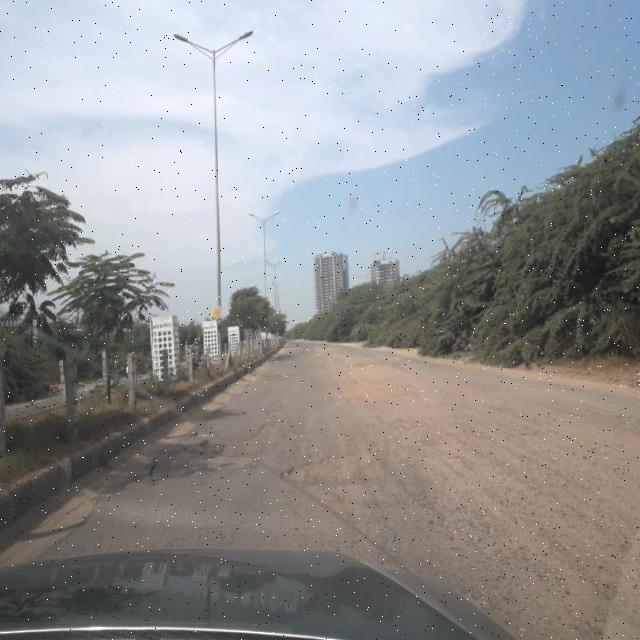D40: (137, 417, 266, 486), (310, 349, 422, 406), (268, 444, 389, 492)
